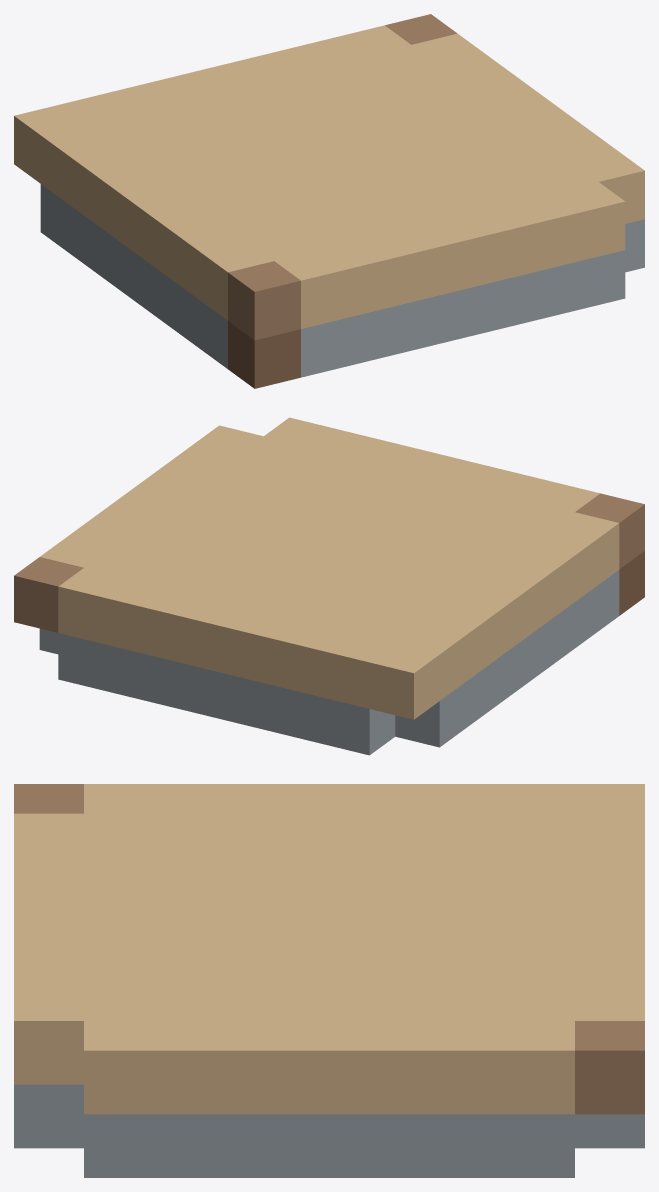
The model's file is barren.lod2.glb.
3 renders of one model, top to bottom at view 1: azimuth 30°, elevation 25°; view 2: azimuth 150°, elevation 25°; view 3: azimuth 270°, elevation 25°, orthographic. The views are drawn at different scales.
Visible parts, largest first — view 1: VX_barren_LOD2; view 2: VX_barren_LOD2; view 3: VX_barren_LOD2.
Part boxes in pixels (bbox=[...]): VX_barren_LOD2: bbox=[14, 14, 644, 388]; VX_barren_LOD2: bbox=[14, 417, 644, 755]; VX_barren_LOD2: bbox=[14, 784, 644, 1177].
Size of the model in its own units: 5.94 by 1.32 by 5.94.
